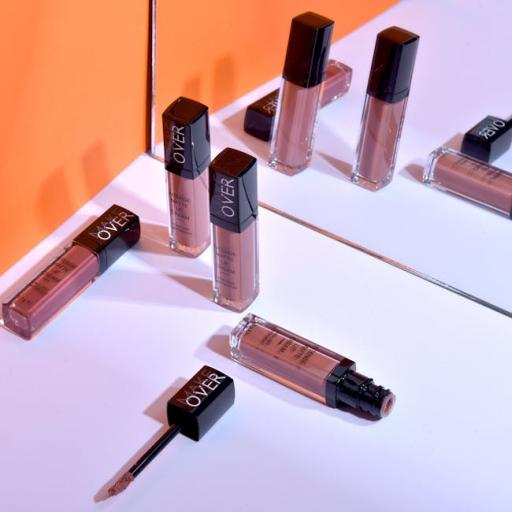lipstick: (3, 205, 140, 339), (352, 27, 419, 190), (269, 12, 333, 175), (210, 149, 259, 311), (163, 97, 210, 257), (244, 90, 279, 141)
